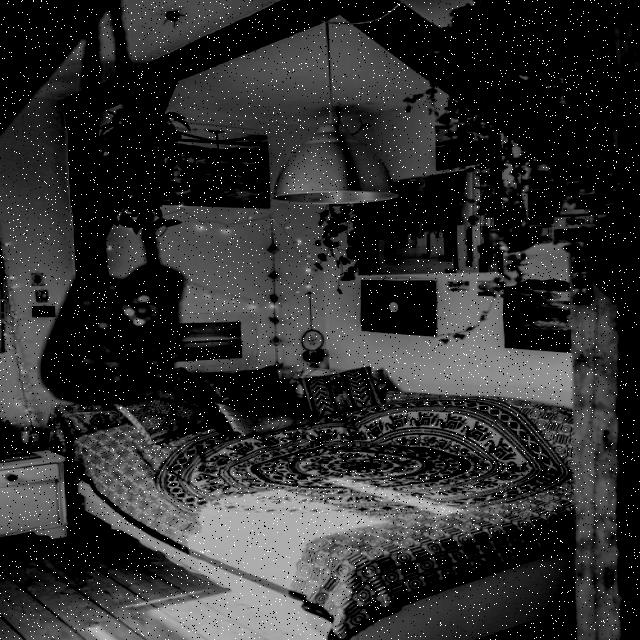bed: (73, 363, 610, 640)
